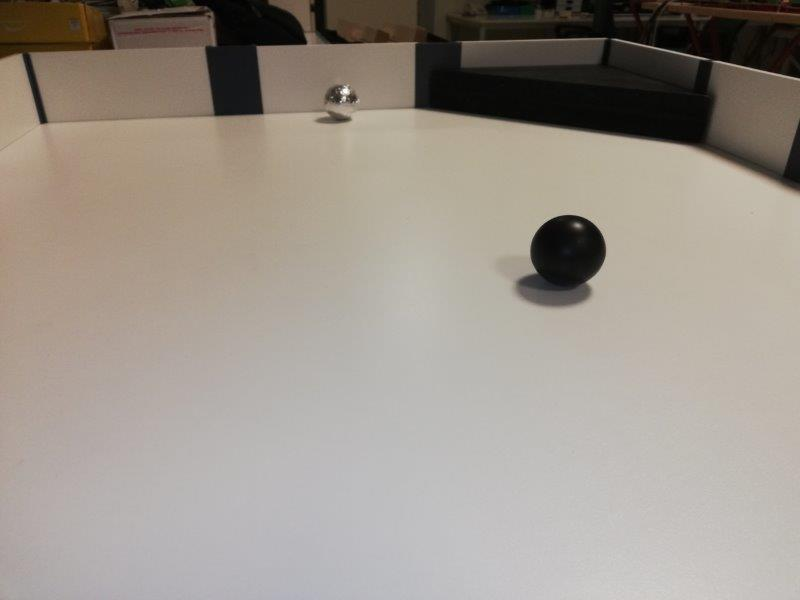bianca: (324, 84, 361, 120)
nera: (528, 214, 608, 290)
